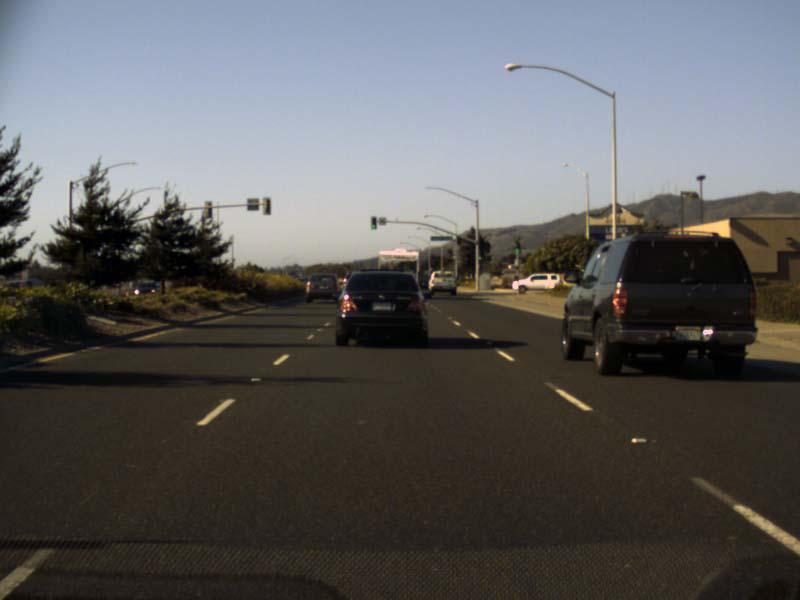Green: (370, 216, 376, 229), (515, 242, 520, 252), (477, 255, 482, 260)
